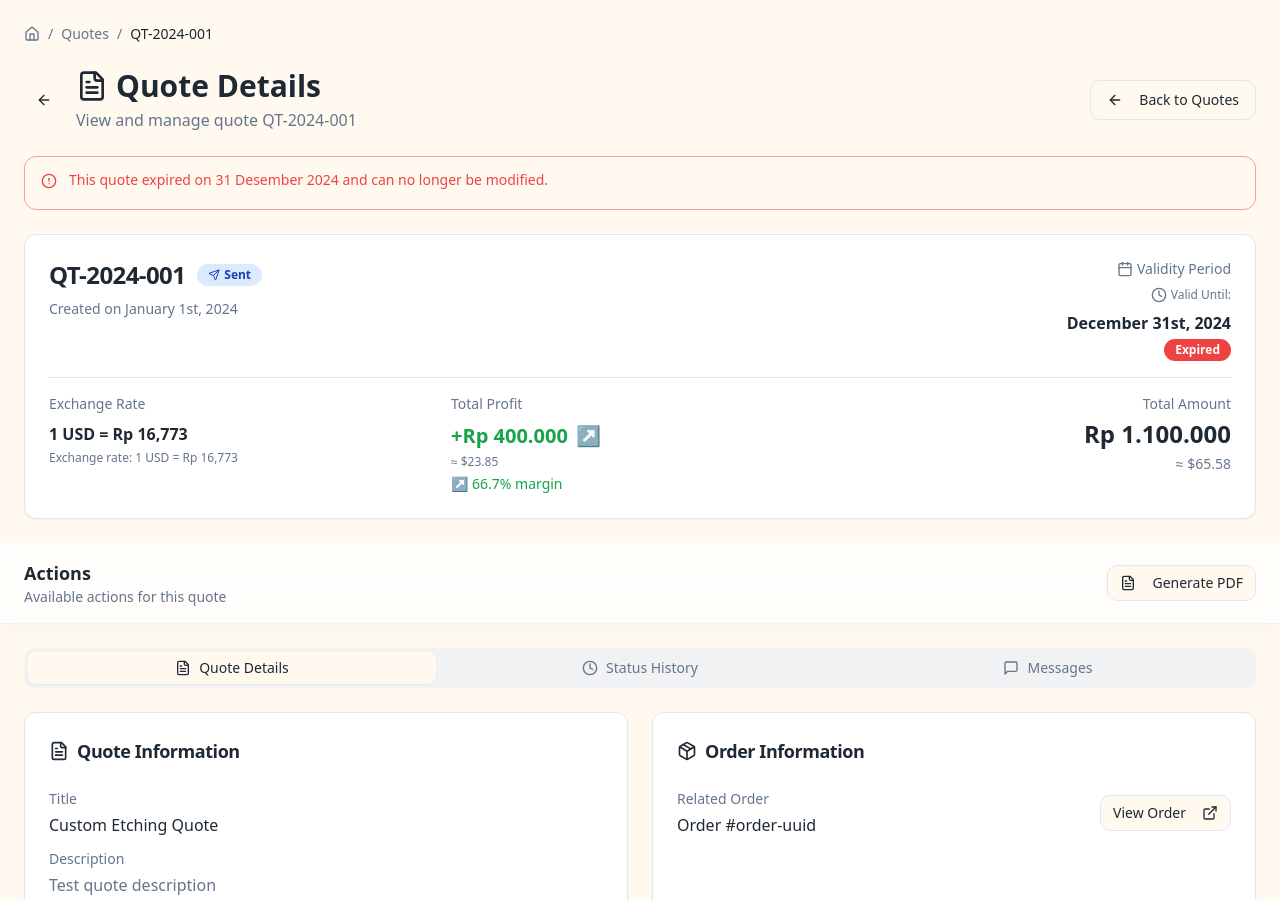
Test: QuoteDetail › should display message thread interface
This screenshot has width=1280, height=900.
Expected: the text "Custom Etching Quote" is shown, x1=49 y1=814 x2=218 y2=836
# Click on Messages tab
Click the tab "Messages" at (1048, 668), box x1=844 y1=652 x2=1252 y2=684
(page scrolled)
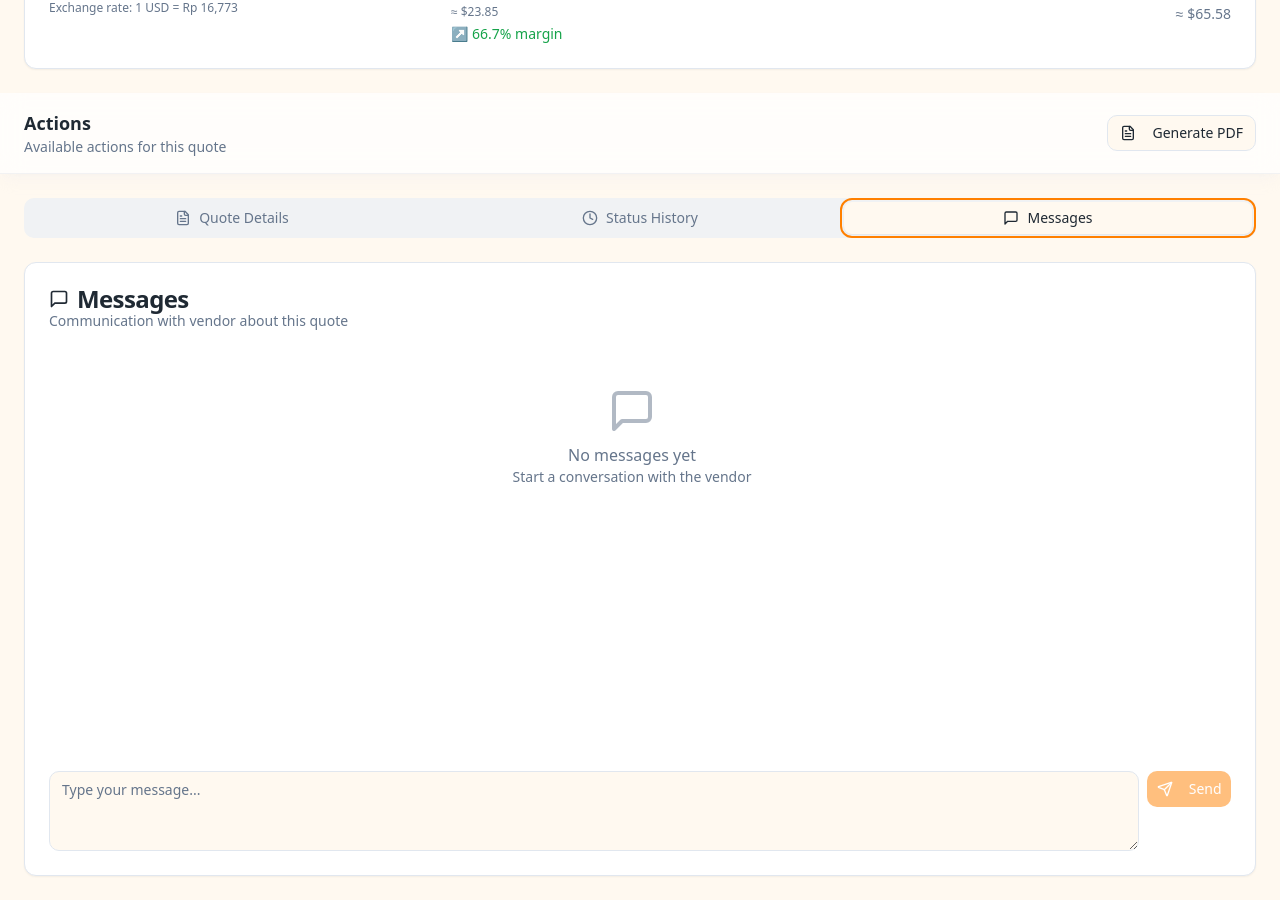
Result: the text box with placeholder "Type your message..." is shown at x1=49 y1=771 x2=1139 y2=851
